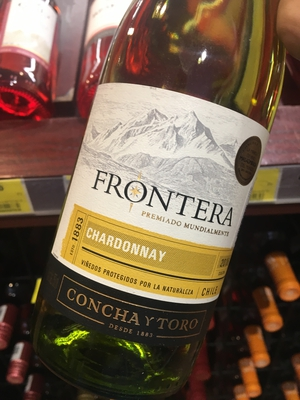frontera chardonnay: (38, 4, 268, 396)
